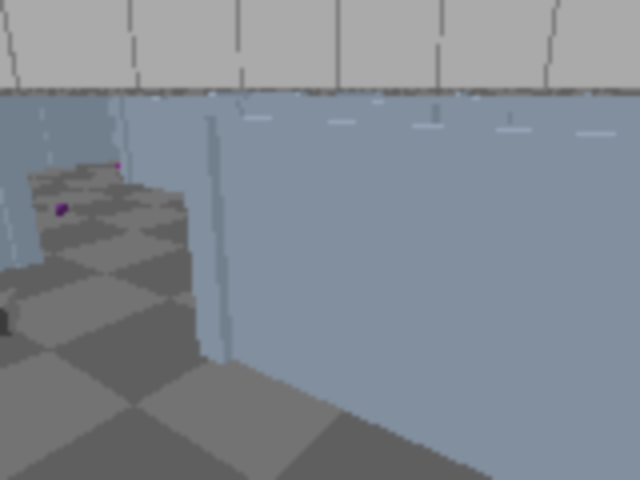obstacle: (0, 289, 20, 348)
puck: (51, 202, 71, 217)
